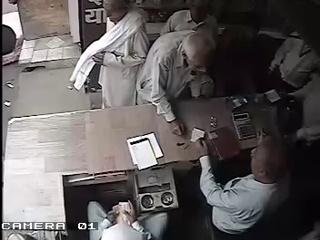Normal: (190, 129, 291, 239), (136, 30, 220, 137), (68, 0, 150, 109), (160, 1, 219, 44)
